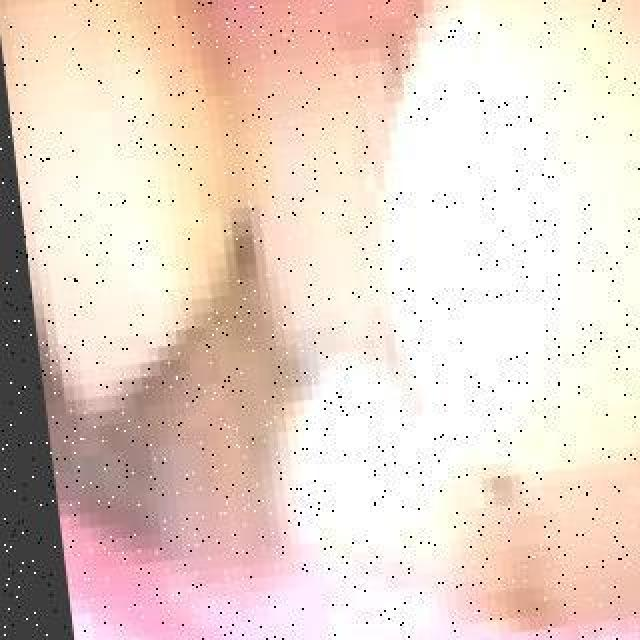maligned: (188, 0, 476, 380), (195, 290, 507, 634)
